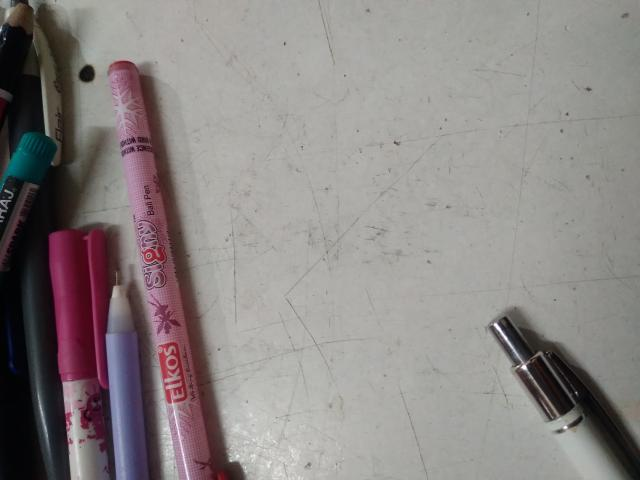PEN: (295, 11, 480, 172), (44, 425, 480, 480)
